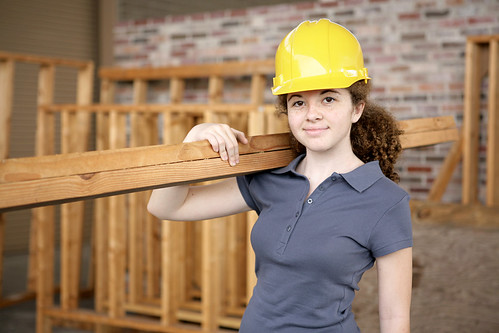person hardhat: (179, 21, 426, 333)
